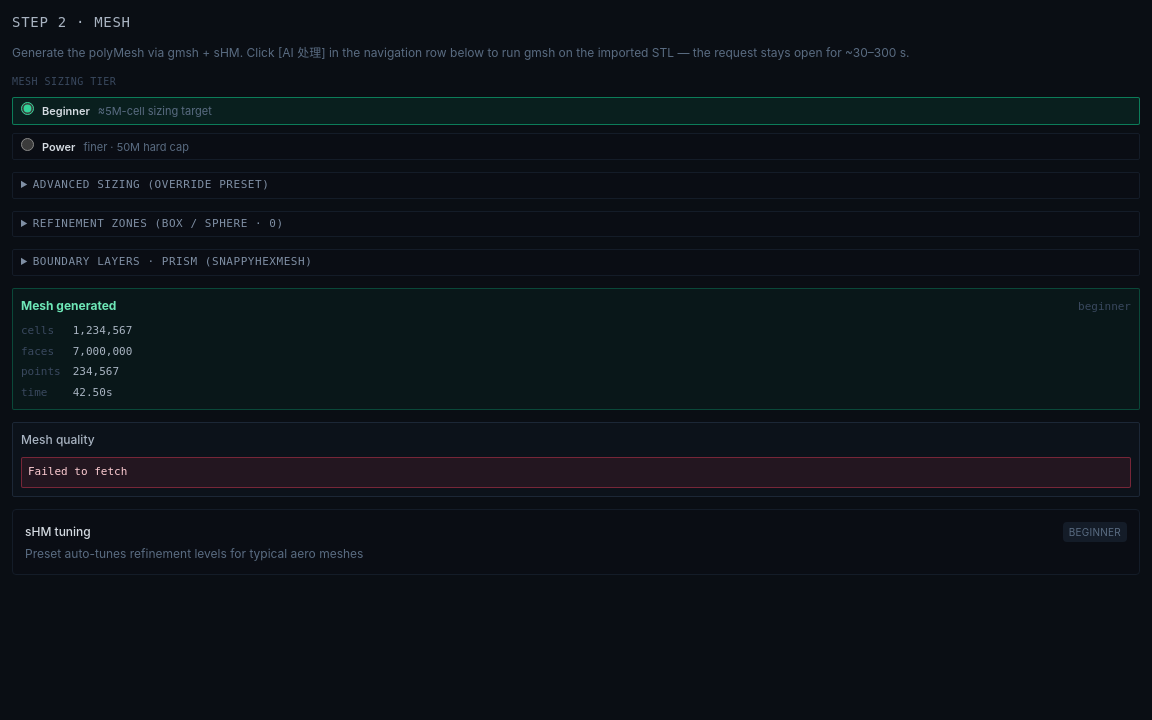
Test: Step2Mesh · wired body › blocks prism apply with inline error when expansion_ratio out of bounds
Click the heading "Boundary layers · prism (snappyHexMesh)" at (172, 262), box [33,255,312,268]
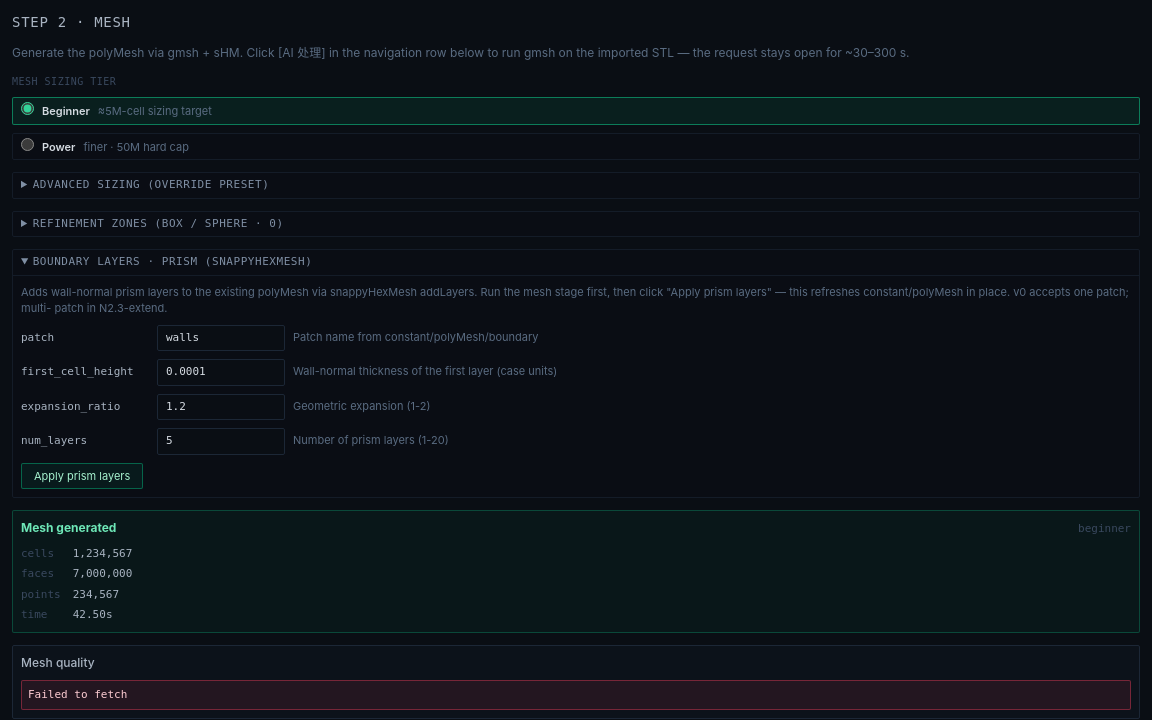
Replace the text in the field labelled "expansion_ratio Geometric expansion (1-2)" with "5" at (221, 407), box [157,394,285,420]
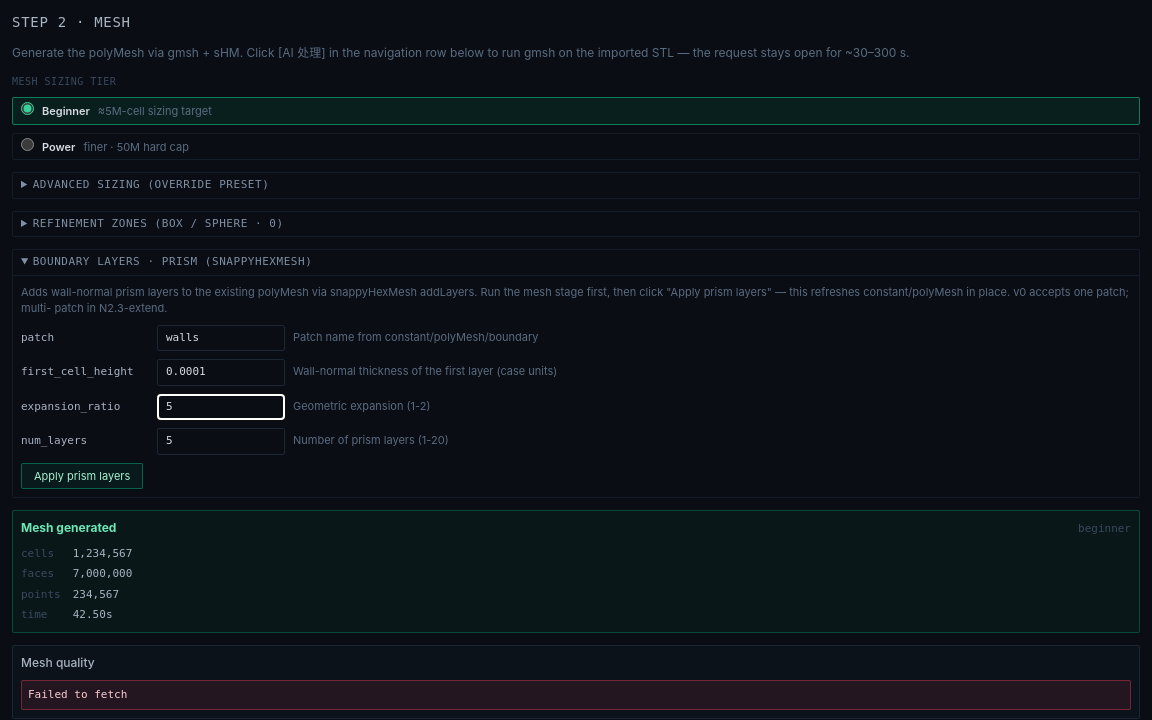
Click the button with test id "step2-mesh-prism-apply" at (82, 476), box [21,462,143,489]
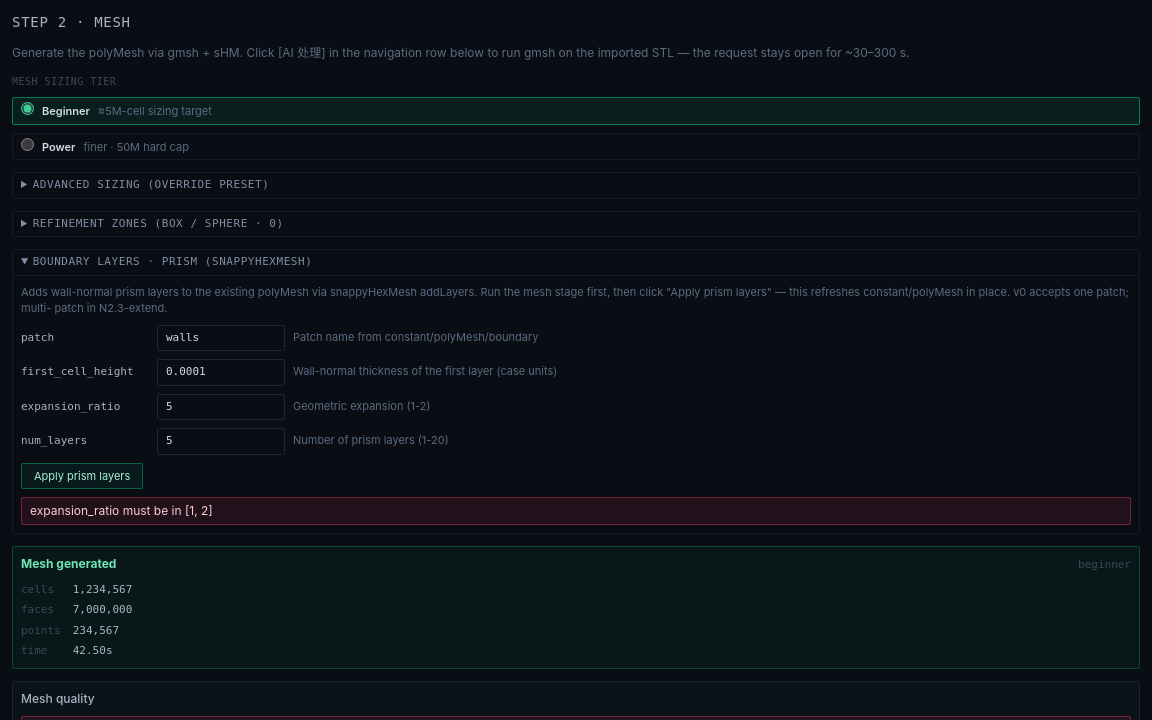
expect the text with test id "step2-mesh-prism-error" shows "expansion_ratio": met, box [30,503,213,518]
